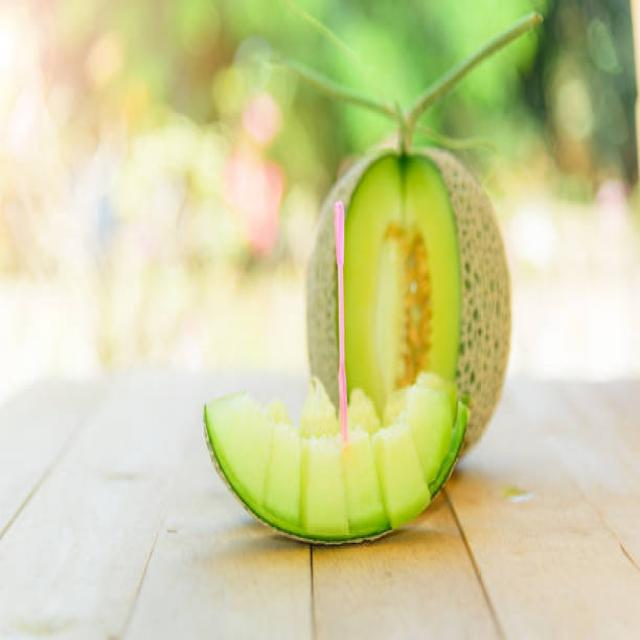Melon: (348, 128, 512, 386)
